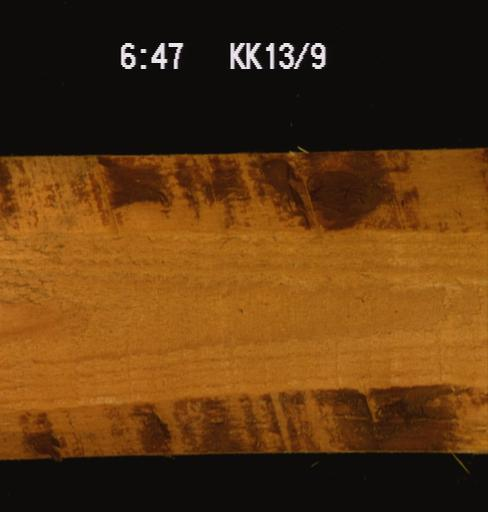wave: (0, 149, 485, 242), (0, 375, 486, 459)
